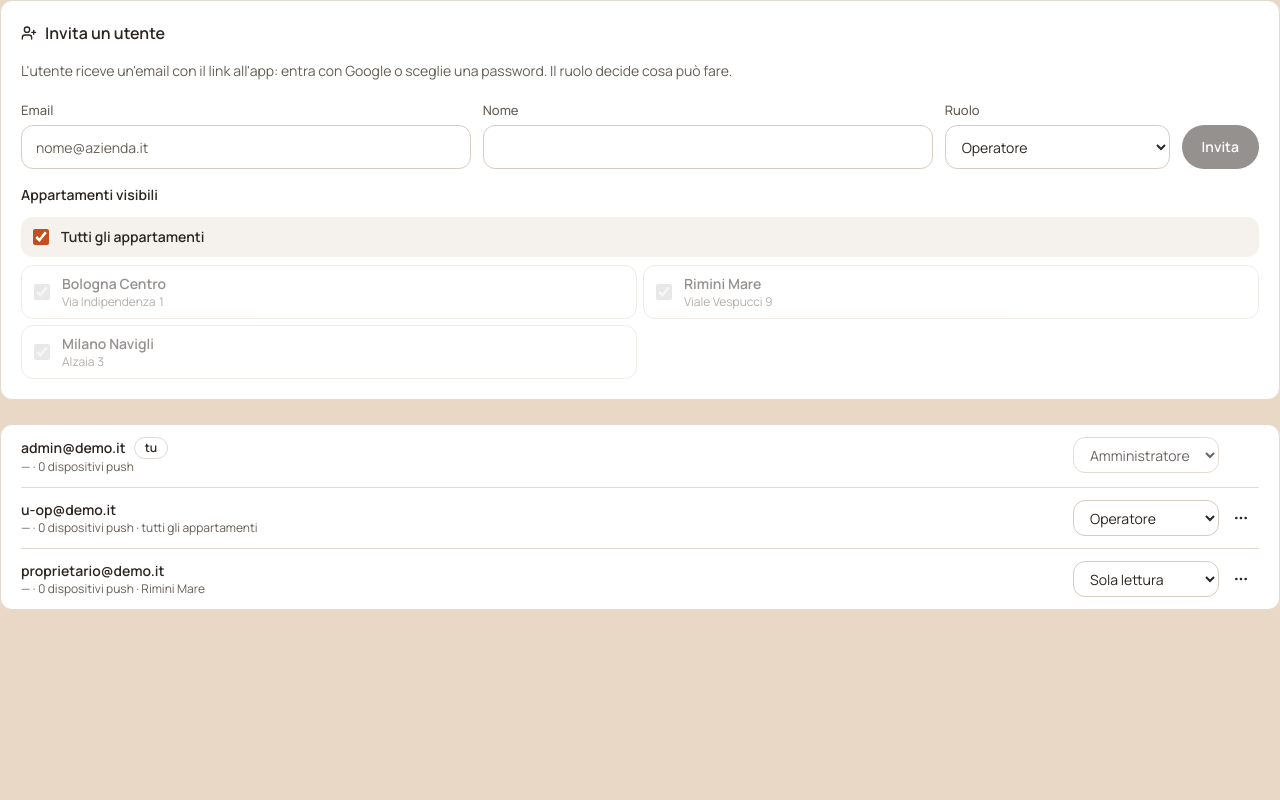
Scenario: Utenti: elenco e modifica degli appartamenti › «Appartamenti» apre la scelta con la lista attuale; «Tutti» e Salva → PATCH con «all» e avviso
This screenshot has width=1280, height=800.
Check: the element with test id "admin-users-list" is shown, box x1=0 y1=424 x2=1279 y2=610
Press Enter in the button with test id "admin-user-menu-u-owner", box x1=1223 y1=561 x2=1259 y2=597
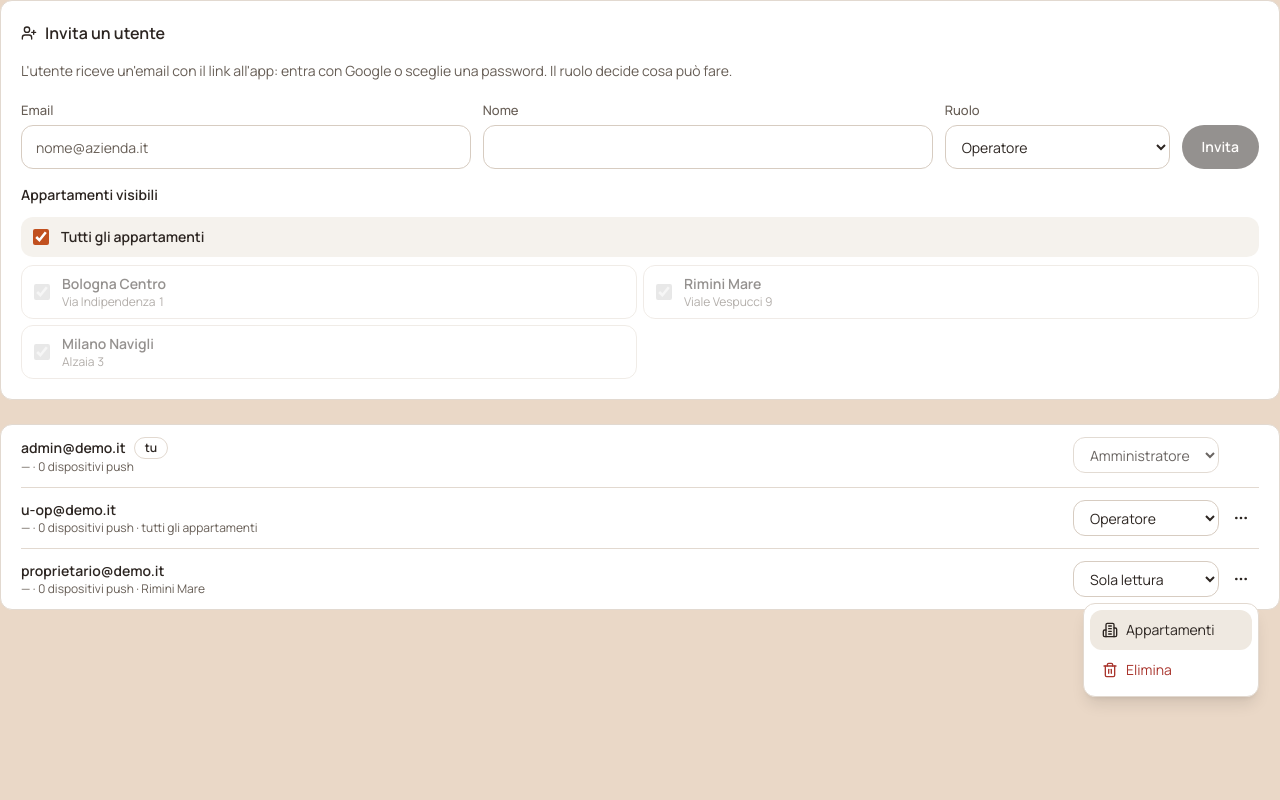
Click the menu item with test id "admin-user-scope-btn-u-owner": (1171, 630) x1=1090 y1=610 x2=1252 y2=650
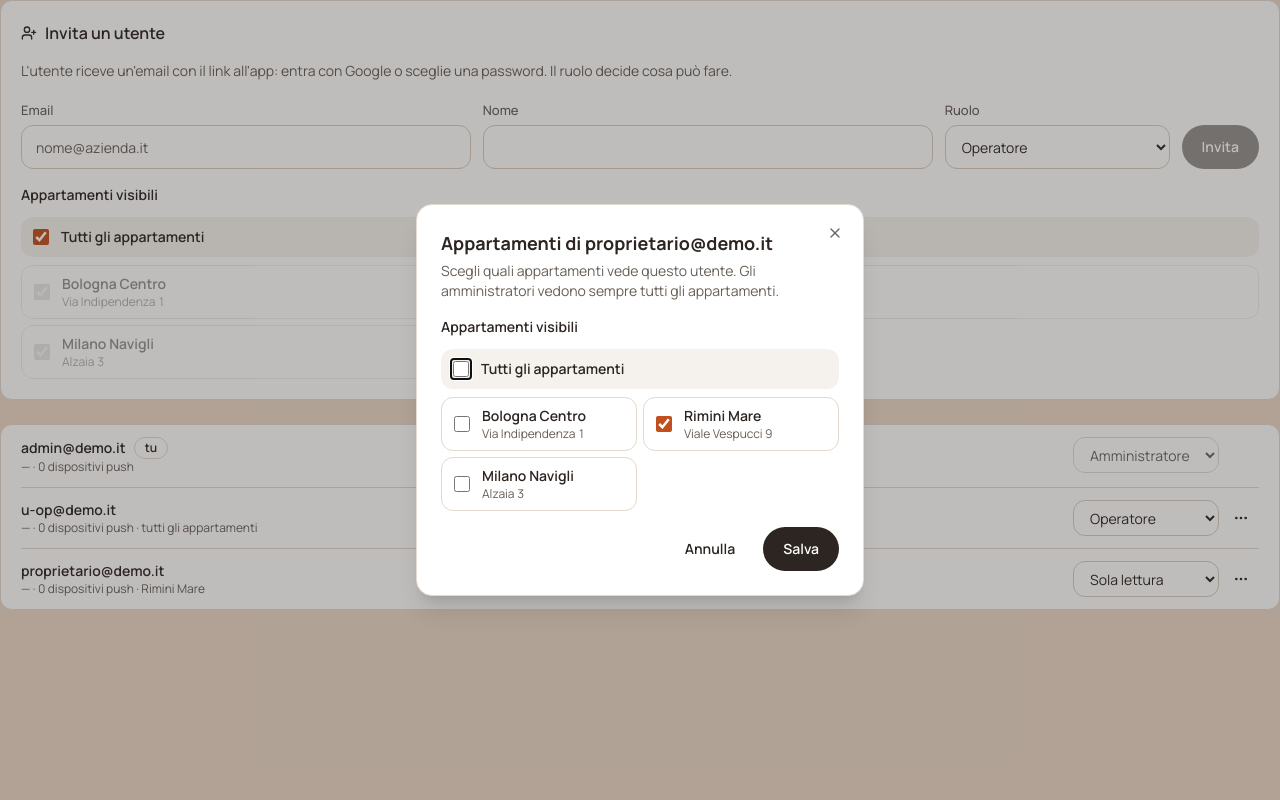
Check: the checkbox with test id "scope-edit-u-owner-apt-rimini-01" is checked, box x1=656 y1=416 x2=672 y2=432
Check: the checkbox with test id "scope-edit-u-owner-apt-bologna-01" is not checked, box x1=454 y1=416 x2=470 y2=432
Click the checkbox with test id "scope-edit-u-owner-all": (461, 369) x1=453 y1=361 x2=469 y2=377
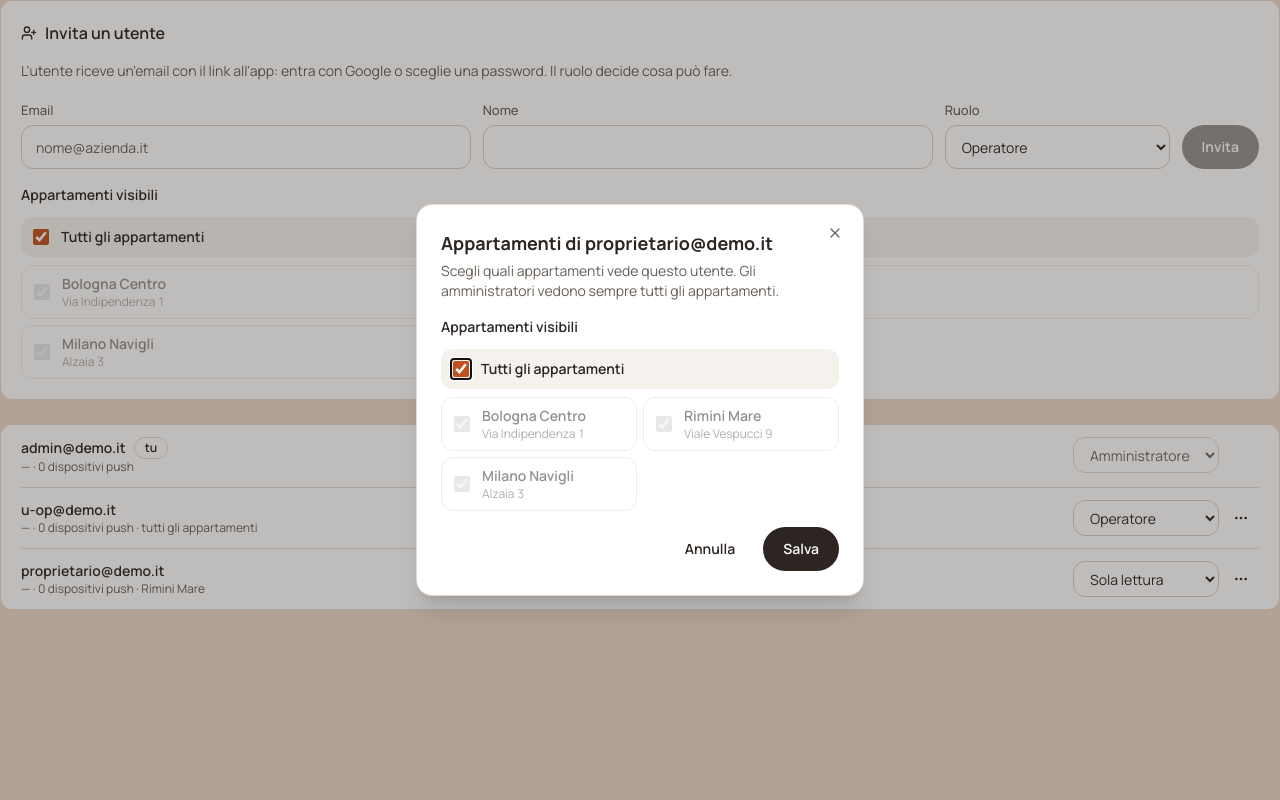
Click the button with test id "scope-dialog-save": (801, 549) x1=763 y1=527 x2=839 y2=571
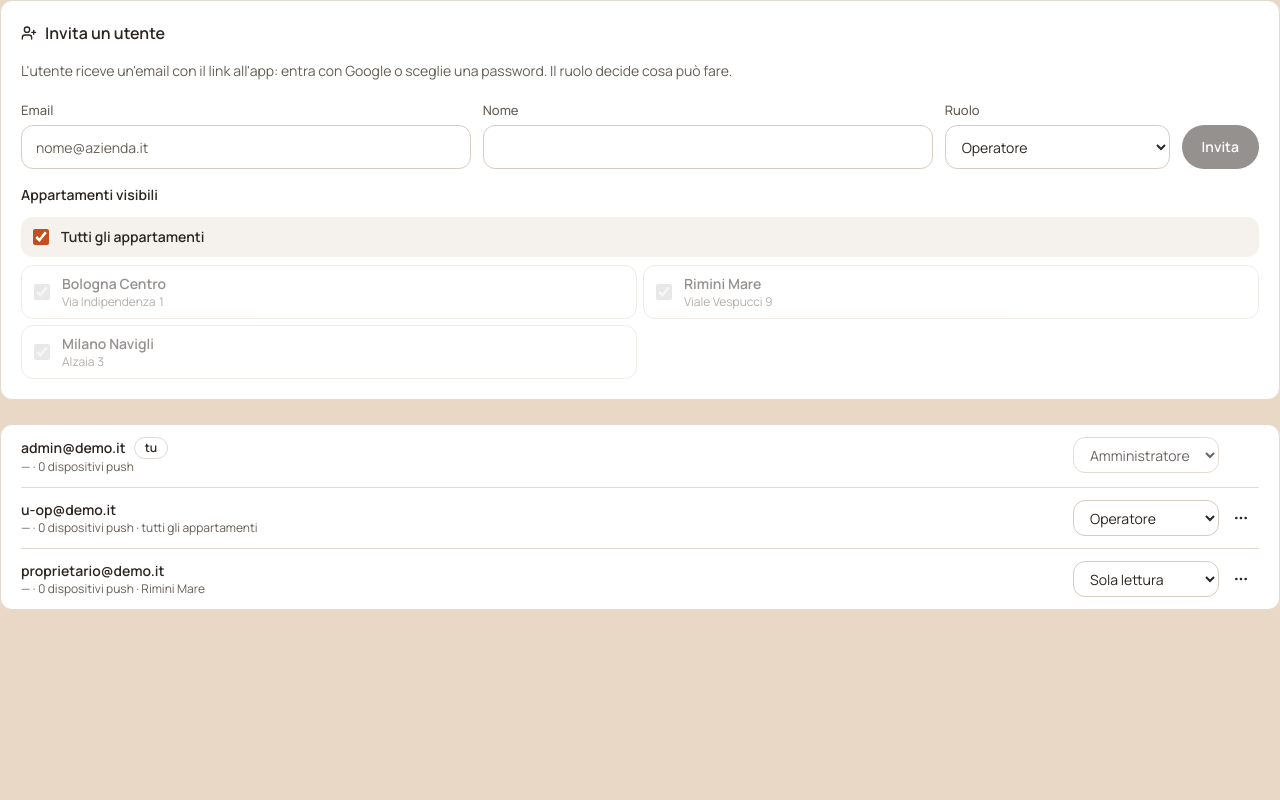
Check: the dialog with test id "scope-dialog-u-owner" is gone
